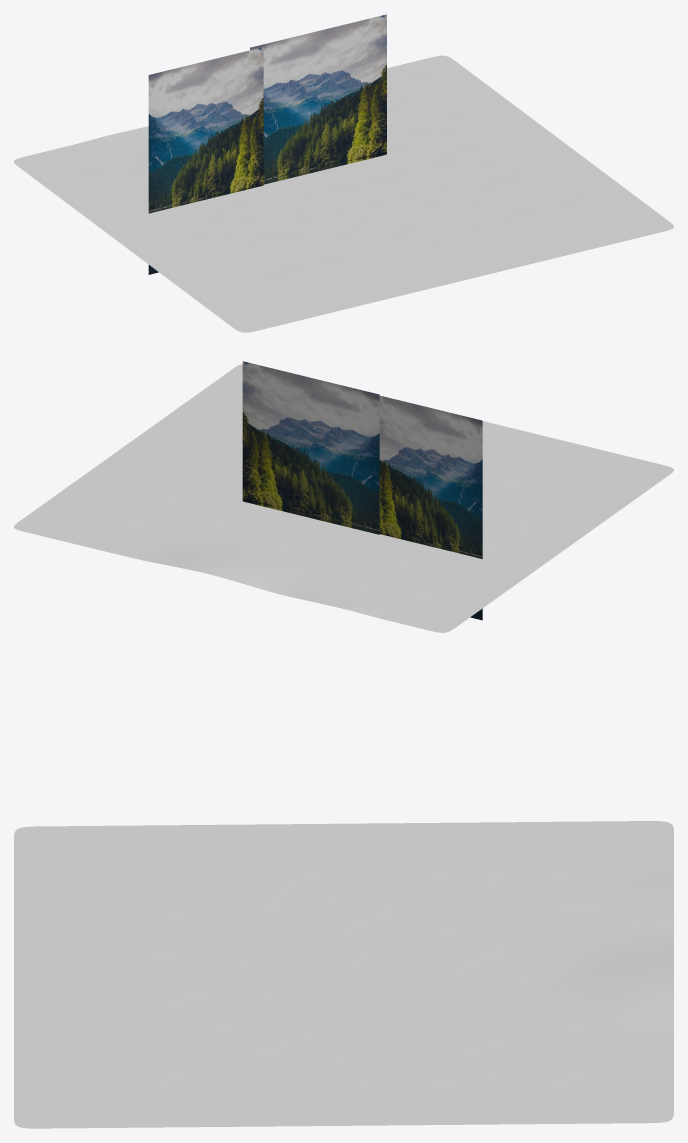
The model's file is background.glb.
3 renders of one model, top to bottom at view 1: azimuth 30°, elevation 25°; view 2: azimuth 150°, elevation 25°; view 3: azimuth 270°, elevation 25°, orthographic. The views are drawn at different scales.
Parts seen in each view (by area): view 1: Plane, pexels-cottonbro-5608200, pexels-cottonbro-5608200.001; view 2: Plane, pexels-cottonbro-5608200, pexels-cottonbro-5608200.001; view 3: Plane.
Boxes of the visible parts, box(x1,y1,x2,y2) form: Plane: box(14, 55, 673, 332); pexels-cottonbro-5608200: box(250, 14, 386, 184); pexels-cottonbro-5608200.001: box(148, 47, 263, 274); Plane: box(14, 364, 673, 632); pexels-cottonbro-5608200: box(242, 361, 379, 534); pexels-cottonbro-5608200.001: box(379, 395, 482, 620); Plane: box(14, 821, 673, 1128).
Size of the model in its own units: 79.2 by 35 by 73.1.
2 materials, 1 textured.
